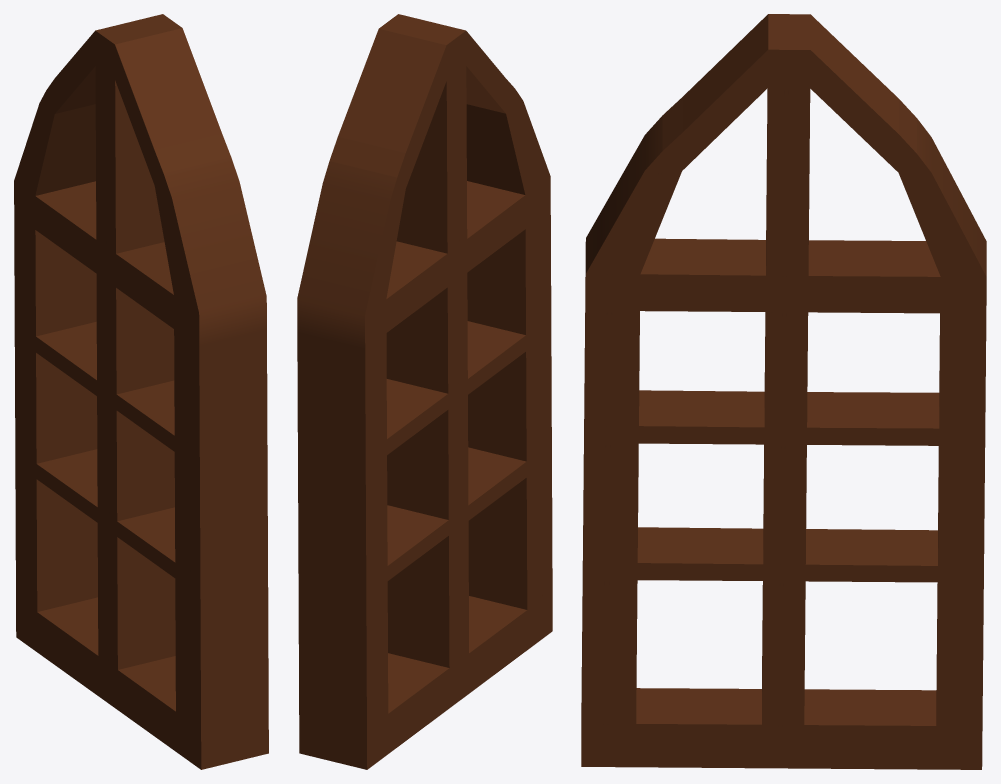
File: windows.FBX
3 views of the same model, side by side, from view 1: azimuth 30°, elevation 25°; view 2: azimuth 150°, elevation 25°; view 3: azimuth 270°, elevation 25° (orthographic). The views are drawn at different scales.
Visible parts, largest first — view 1: Windows2:pCube3; view 2: Windows2:pCube3; view 3: Windows2:pCube3.
Boxes of the visible parts, x1,y1,x2,y2 form: Windows2:pCube3: (14,14,268,769); Windows2:pCube3: (297,14,552,769); Windows2:pCube3: (581,14,986,769).
Size of the model in its own units: 91.15 by 856 by 437.
1 material, 1 textured.
